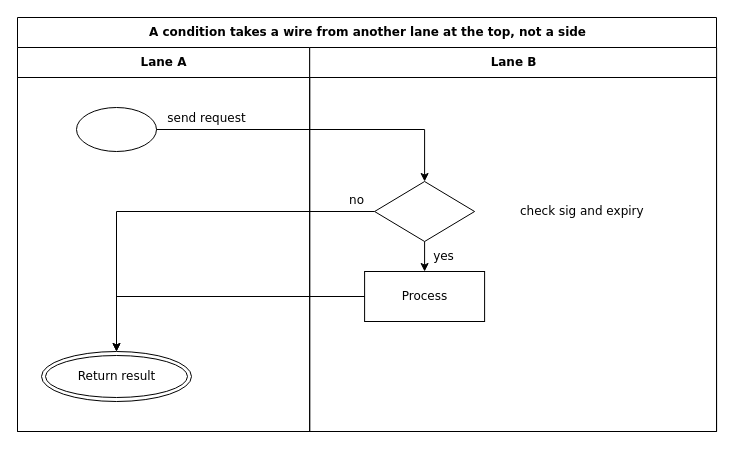
Image size: 735x449. Some labels were removed from this diagram. The centre of each missing label's shape, as x and y in pixels:
Enter: the point at 116,129
Valid?: the point at 424,211
